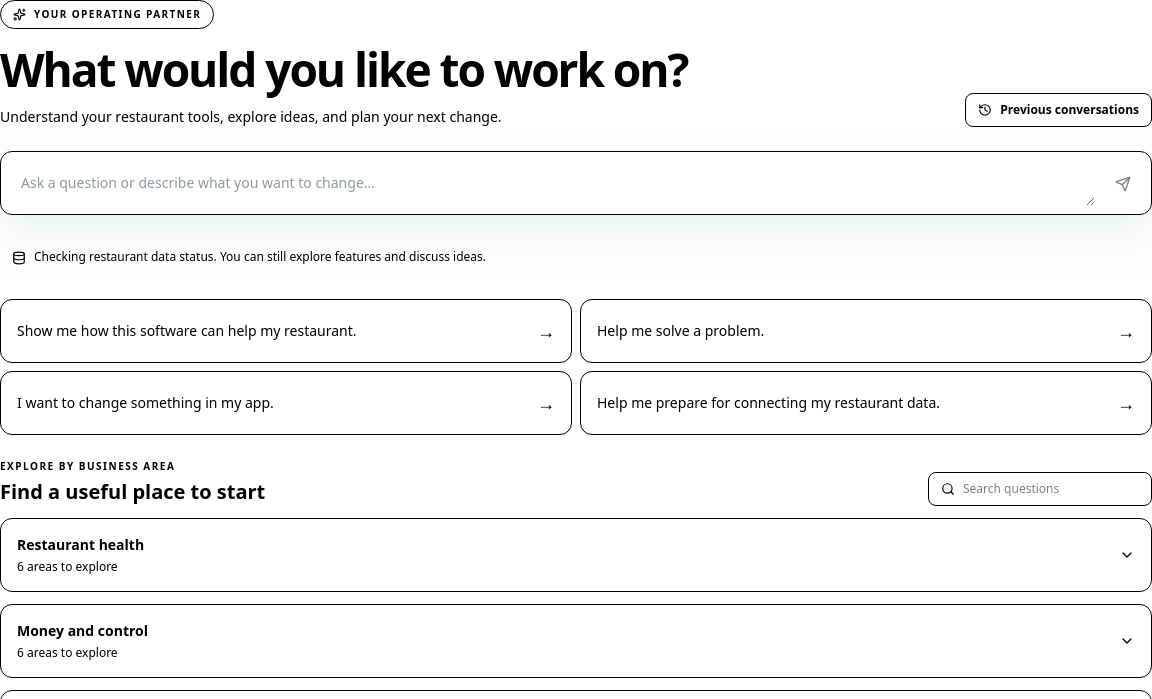
Test: owner OS without restaurant data › loads a saved conversation from the previous conversations list
The width and height of the screenshot is (1152, 699).
What coordinates should you click on to do the following:
click the button "Previous conversations"
I would click on:
 (1059, 110)
Its box is [965, 93, 1151, 127].
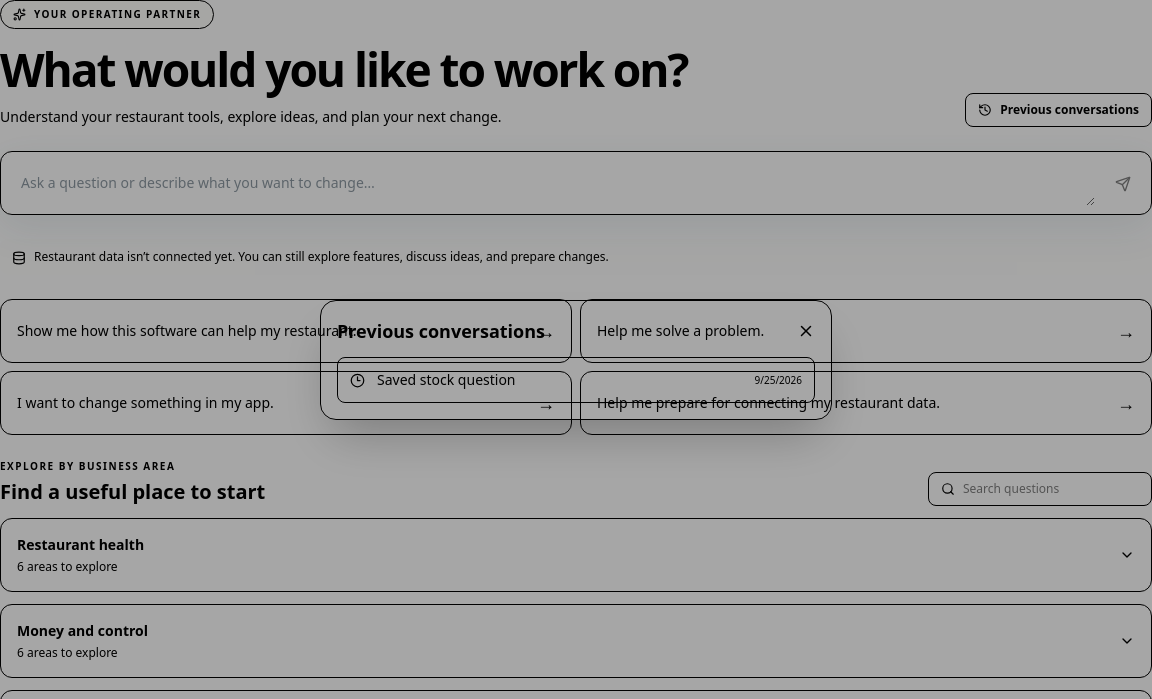
What coordinates should you click on to do the following:
click the button "Saved stock question 9/25/2026"
I would click on:
 (446, 380)
Its box is [337, 357, 815, 403].
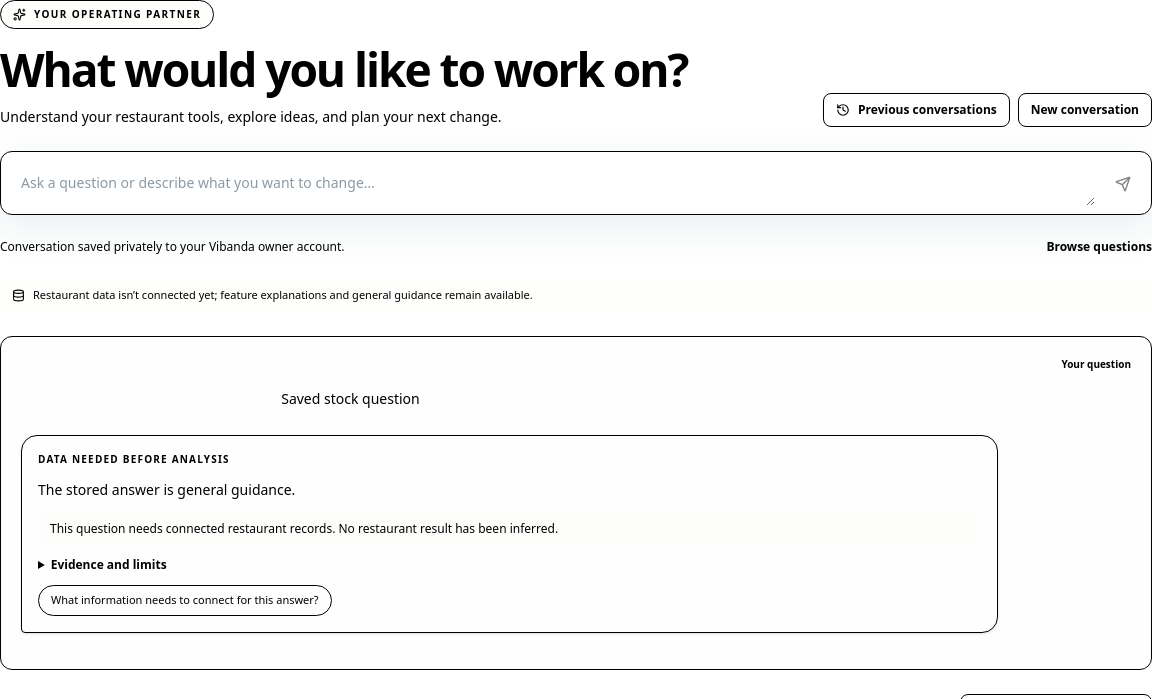
expect the text "Saved stock question" is shown: met, box [281, 389, 420, 408]
expect the text "The stored answer is general guidance." is shown: met, box [38, 480, 295, 499]
